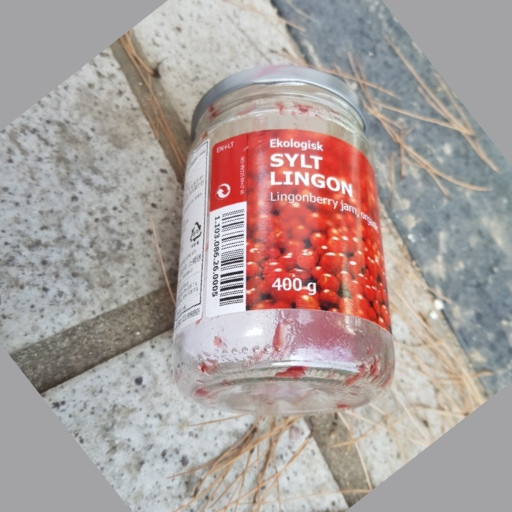Glass_5: (160, 69, 394, 420)
